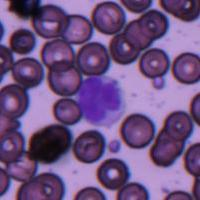M: (76, 75, 125, 126)
